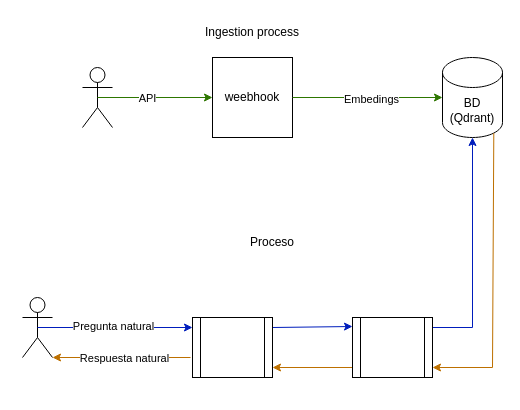
Image size: 520x410. Some labels were removed from this diagram. The shapes that lost their labels are listed below. From the top down, each one's centre as x and y in pixels, then its label:
At (97,97): "Entrega de informacion".
At (37,327): "Usuario".
